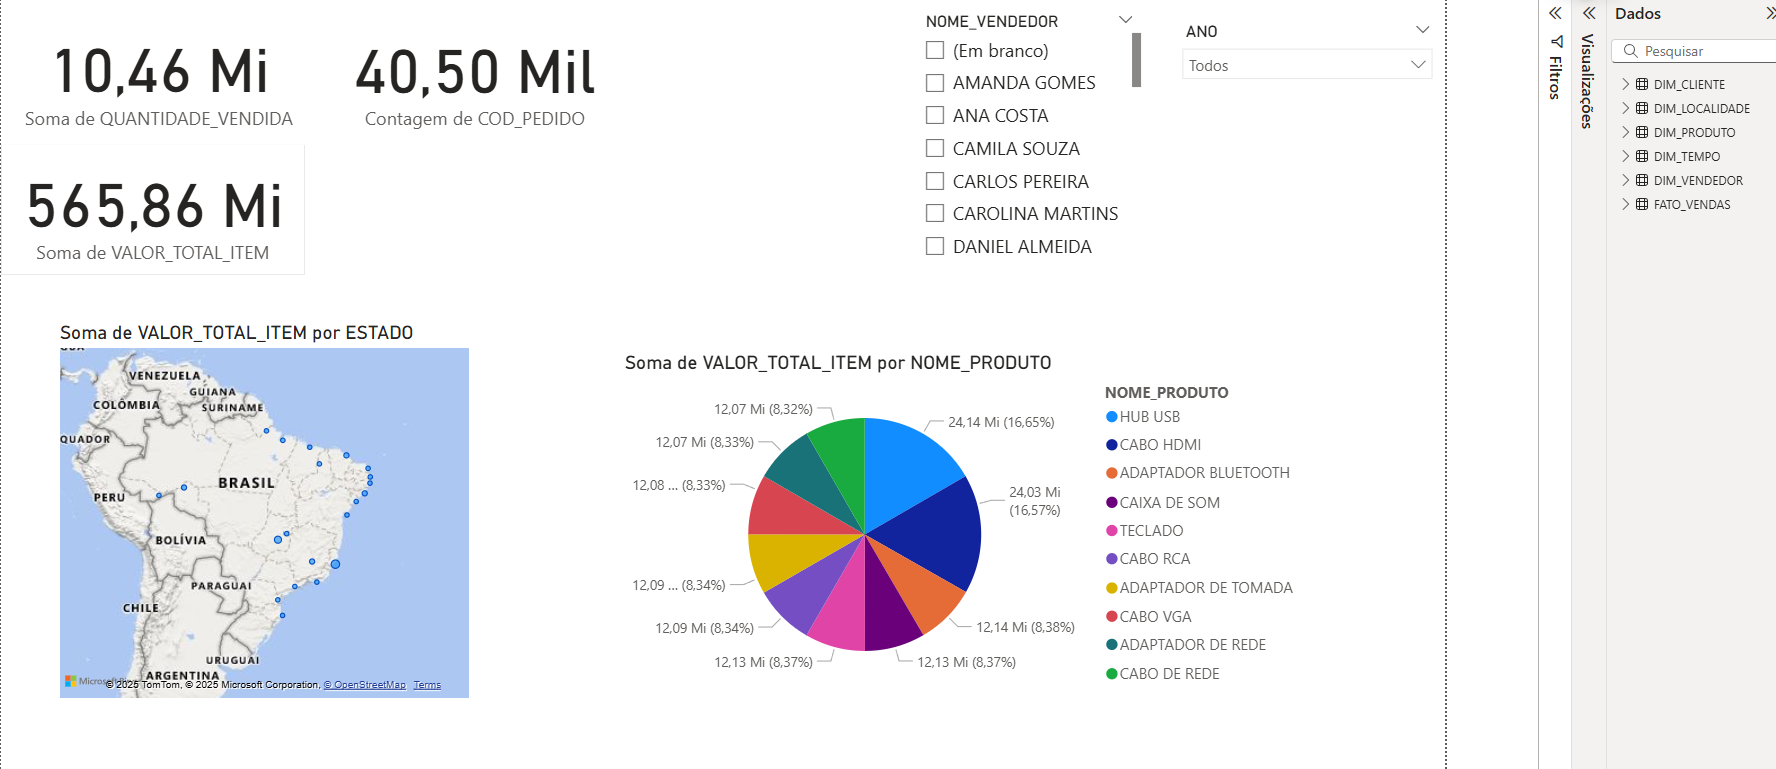

The dashboard page shown, as its layout file describes it:
{"tool":"powerbi","page":{"name":"Resumo Geral","canvas":[1280,720],"ordinal":0},"visuals":[{"type":"map","fields":{"Category":["DIM_LOCALIDADE.ESTADO"],"Size":["FATO_VENDAS.VALOR_TOTAL_ITEM"]},"box":[46.7,289.8,373.5,339.5],"z":0},{"type":"card","fields":{"Values":["FATO_VENDAS.VALOR_TOTAL_ITEM"]},"box":[0,133.3,269.4,115.7],"z":1},{"type":"card","fields":{"Values":["FATO_VENDAS.QUANTIDADE_VENDIDA"]},"box":[0,9.7,280.1,123.5],"z":2},{"type":"card","fields":{"Values":["FATO_VENDAS.COD_PEDIDO"]},"box":[280.1,0,280.1,144],"z":3},{"type":"slicer","fields":{"Values":["DIM_VENDEDOR.NOME_VENDEDOR"]},"box":[807.3,11.7,209.1,237.3],"z":4},{"type":"slicer","fields":{"Values":["DIM_TEMPO.ANO"]},"box":[1037.8,20.4,242.2,180.9],"z":5},{"type":"pieChart","fields":{"Category":["DIM_PRODUTO.NOME_PRODUTO"],"Y":["FATO_VENDAS.VALOR_TOTAL_ITEM"]},"box":[547.6,316.1,611.8,306.4],"z":6}]}

Visuals, with their boxes on the page's 1280x720 design canvas (x1, y1, x2, y2). These are canvas units, not pixel positions in the 1776x769 screenshot, which may show the page scaled, cropped or inside an application window:
map - DIM_LOCALIDADE.ESTADO x FATO_VENDAS.VALOR_TOTAL_ITEM: rect(47, 290, 420, 629)
card - FATO_VENDAS.VALOR_TOTAL_ITEM: rect(0, 133, 269, 249)
card - FATO_VENDAS.QUANTIDADE_VENDIDA: rect(0, 10, 280, 133)
card - FATO_VENDAS.COD_PEDIDO: rect(280, 0, 560, 144)
slicer - DIM_VENDEDOR.NOME_VENDEDOR: rect(807, 12, 1016, 249)
slicer - DIM_TEMPO.ANO: rect(1038, 20, 1280, 201)
pieChart - DIM_PRODUTO.NOME_PRODUTO x FATO_VENDAS.VALOR_TOTAL_ITEM: rect(548, 316, 1159, 622)
